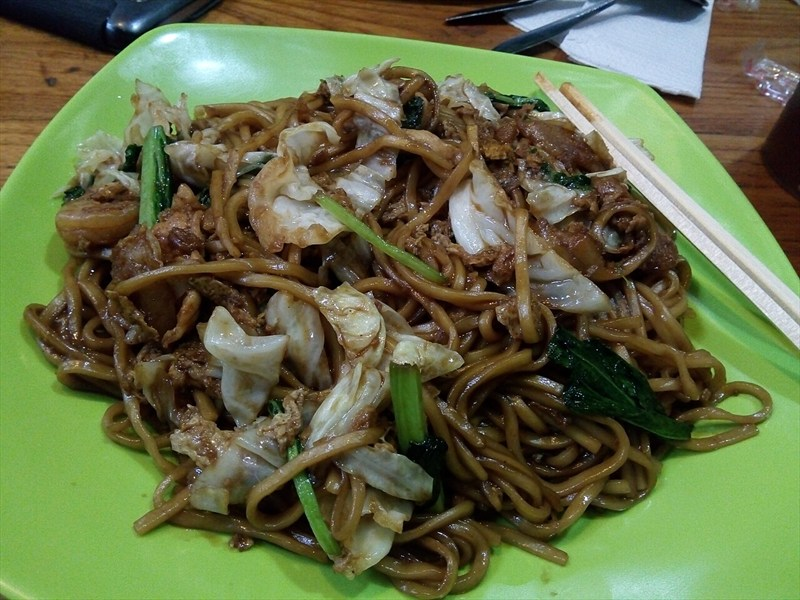Mie Goreng: (102, 14, 718, 531)
